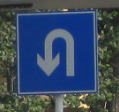u_turn: (16, 10, 98, 96)
